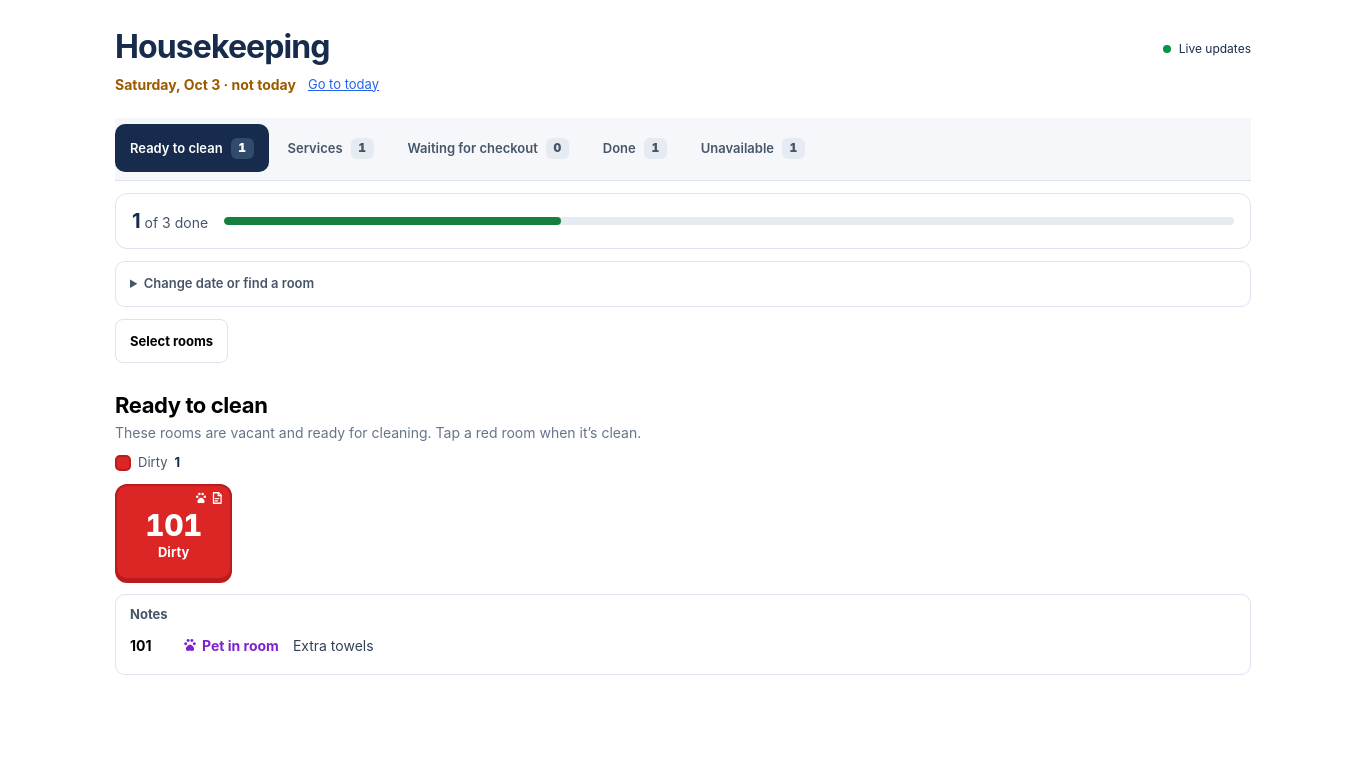
Test: housekeeping loads only the newly selected report date
Check: the list item with aria-label "Room 101, Dirty" is shown, box 115,484 -> 232,580
Click the heading "Change date or find a room" at (229, 283), box 144,275 -> 314,291
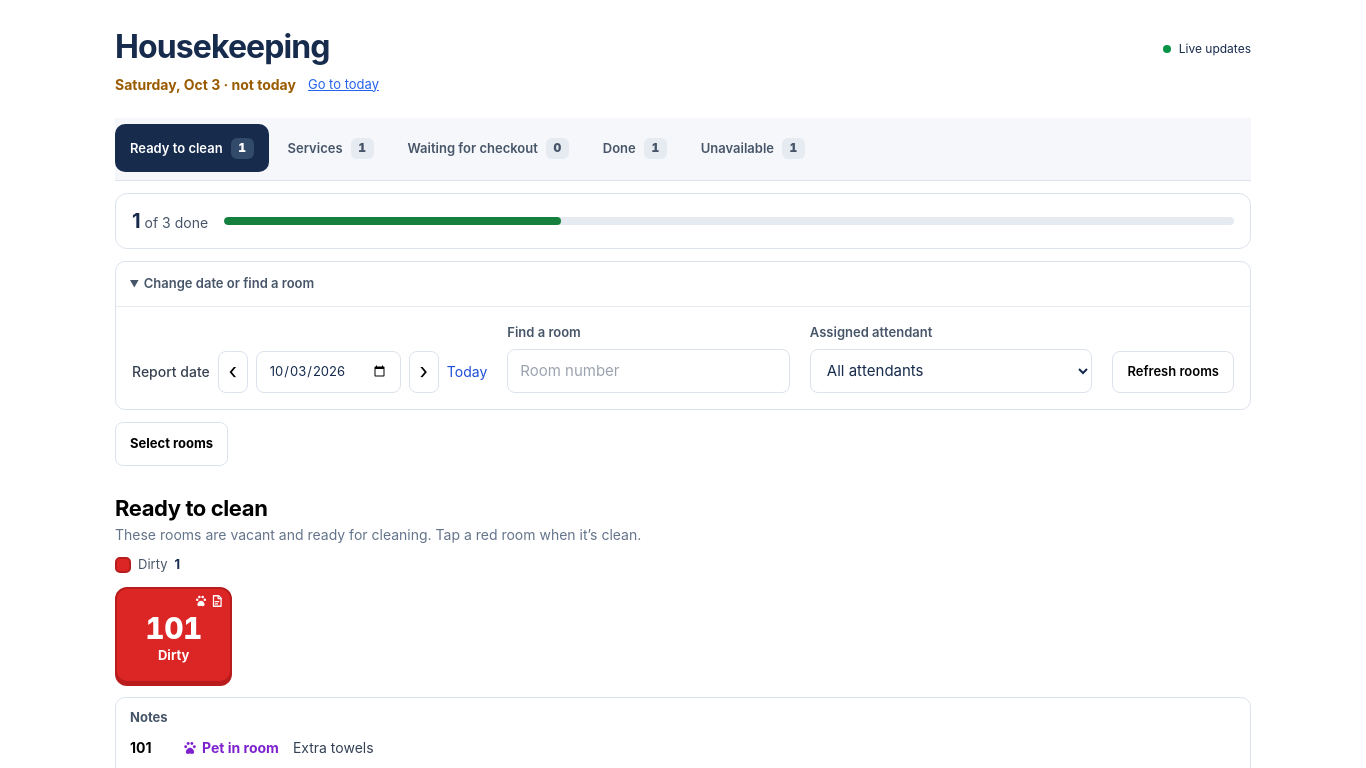
Click the button named "Next report date" at (424, 372), box 409,351 -> 439,393
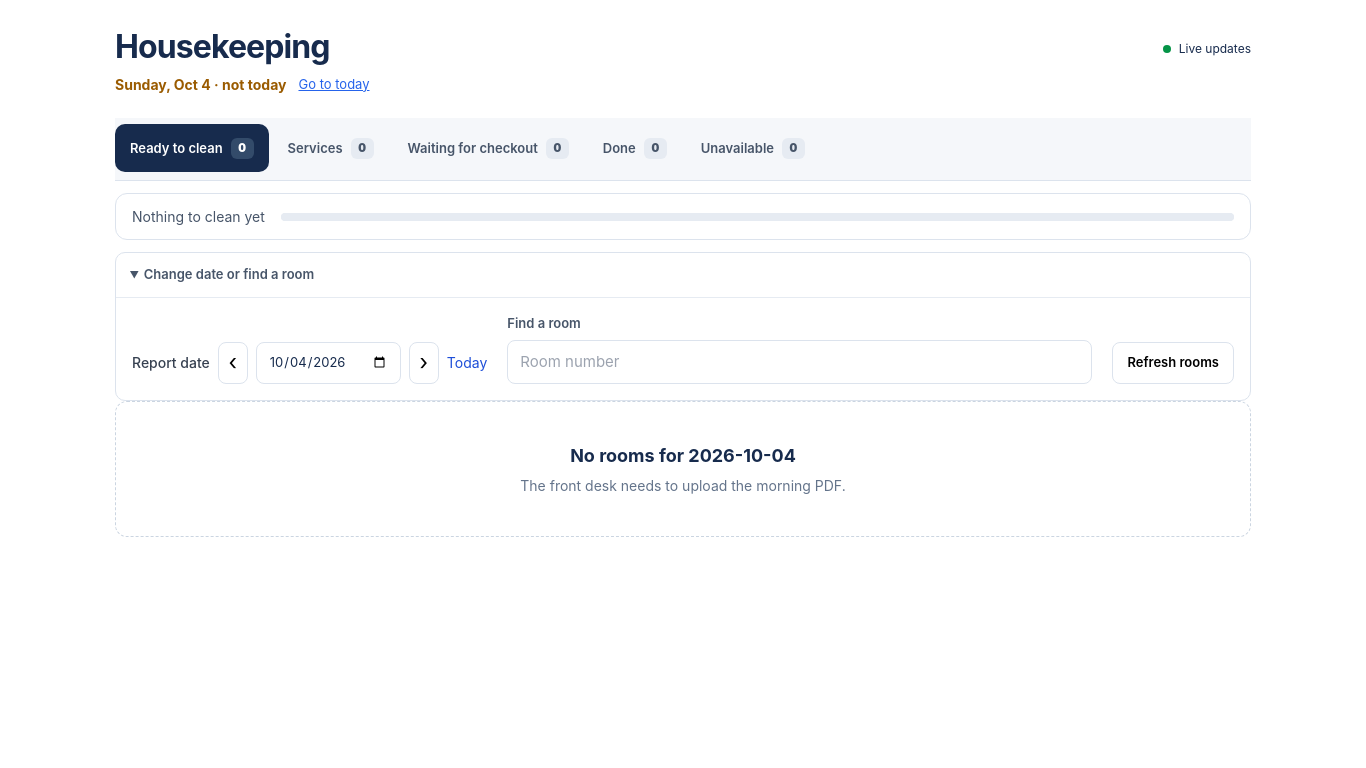
Check: the heading "No rooms for 2026-10-04" is shown, box 570,445 -> 796,466
